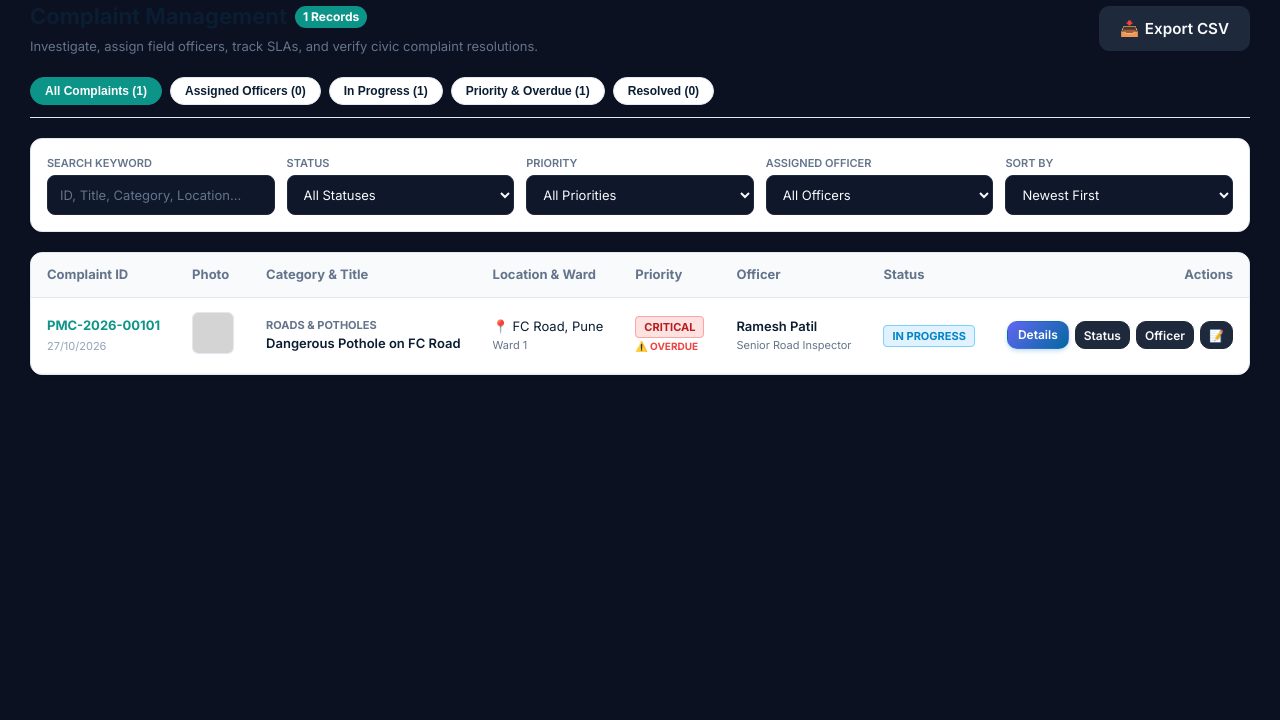
Test: Department Admin Dashboard & Modules › 3. DepartmentComplaintsPage Management & Actions › renders complaint table with search, columns, and opens Assign Officer modal
The image size is (1280, 720).
Check: the text "Dangerous Pothole on FC Road" is shown, box [266, 334, 460, 353]
Check: the link "PMC-2026-00101" is shown, box [47, 317, 160, 333]
Click "Officer" action button to open assign modal
Click the button titled "Assign Officer". click: (1165, 335)
box: [1136, 321, 1194, 349]
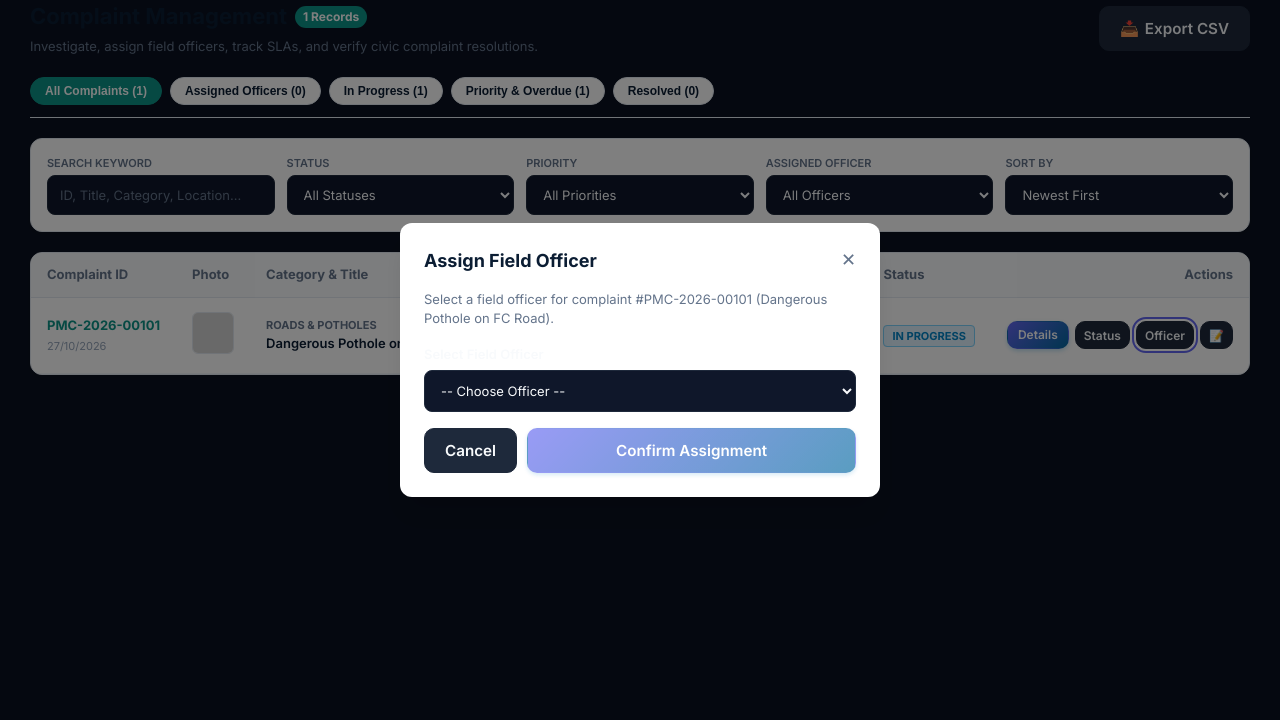
Check: the heading "Assign Field Officer" is shown, box [424, 246, 597, 274]
Check: the button "Confirm Assignment" is shown, box [527, 428, 856, 473]
